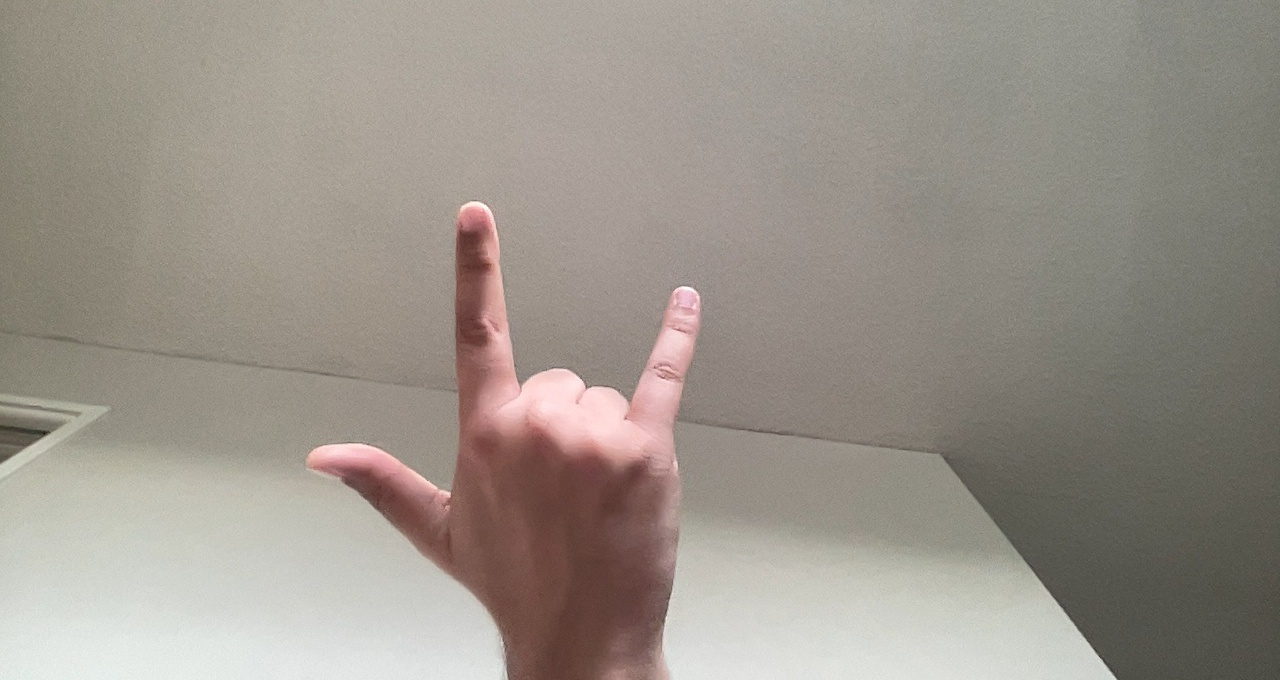rockon sign: (292, 195, 724, 667)
